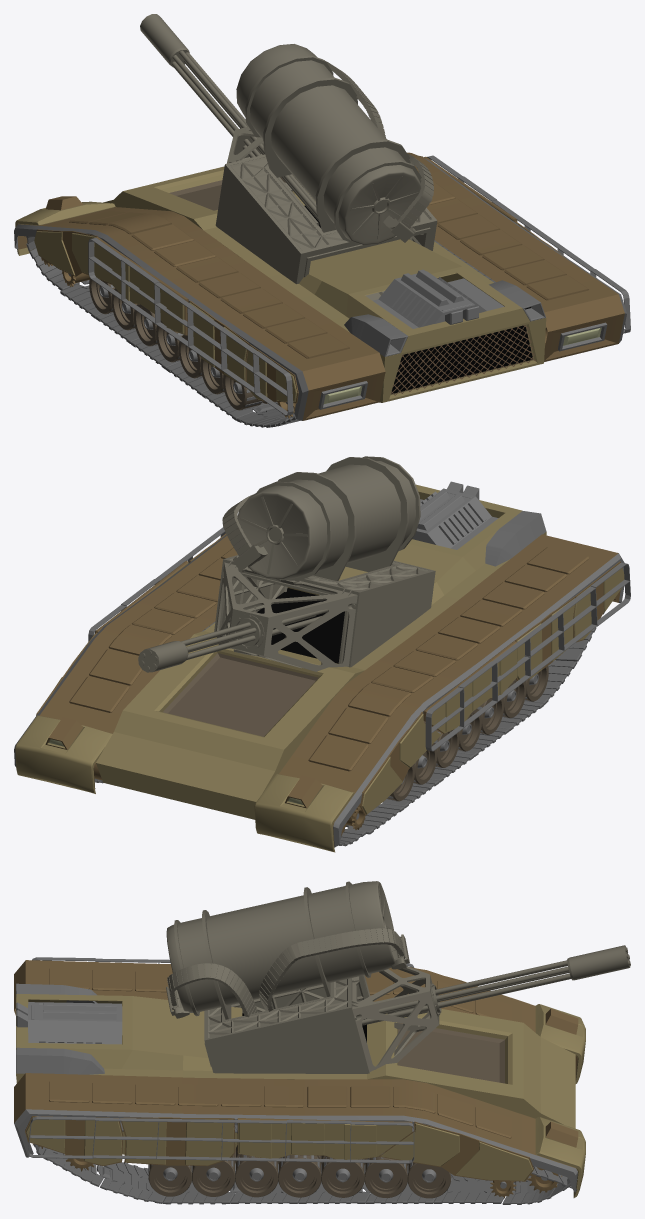
The model's file is anti-aircraft.fbx.
3 views of the same model, one above another, from view 1: azimuth 30°, elevation 25°; view 2: azimuth 150°, elevation 25°; view 3: azimuth 270°, elevation 25° (orthographic). The views are drawn at different scales.
Parts seen in each view (by area): view 1: Rotate_x; view 2: Rotate_x; view 3: Rotate_x.
Part boxes in pixels (x1,y1,x2,y2): Rotate_x: (14,14,630,427); Rotate_x: (14,456,630,852); Rotate_x: (14,881,630,1204).
Bounding box in the file's own units: 412 × 295 × 664.
